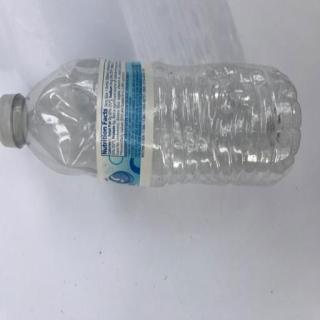Plastic-bottle: (2, 56, 305, 191)
